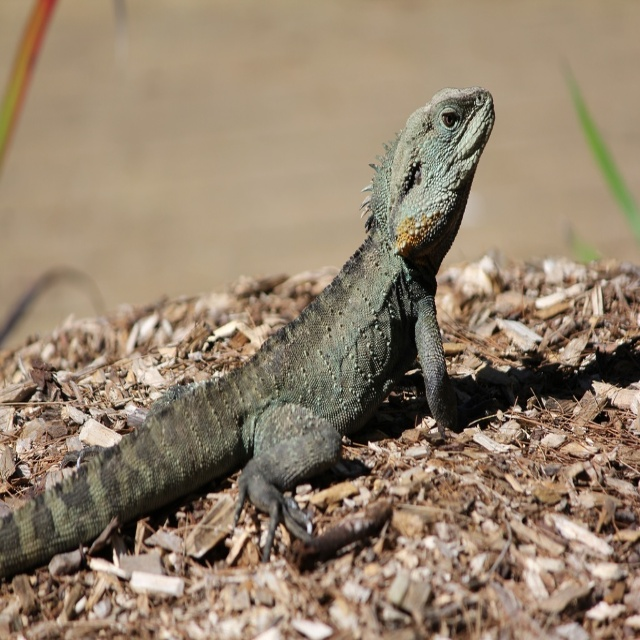Lizard: (0, 88, 498, 566)
